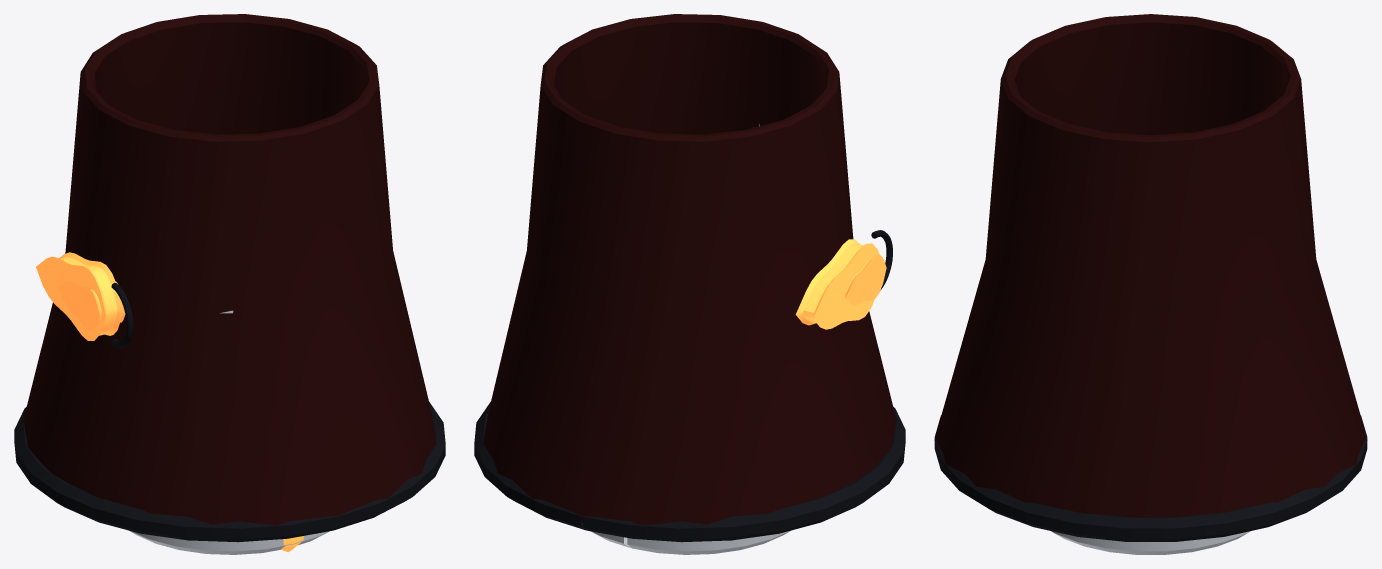
File: esc_ender_of_tomes_gloves_R.glb
3 renders of one model, left to right at view 1: azimuth 30°, elevation 25°; view 2: azimuth 150°, elevation 25°; view 3: azimuth 270°, elevation 25°, orthographic.
Visible parts, largest first — view 1: esc_ender_of_tomes_gloves; view 2: esc_ender_of_tomes_gloves; view 3: esc_ender_of_tomes_gloves.
Boxes of the visible parts, <box> form: esc_ender_of_tomes_gloves: <box>14,14,445,554</box>; esc_ender_of_tomes_gloves: <box>474,14,905,554</box>; esc_ender_of_tomes_gloves: <box>934,14,1367,554</box>.
Size of the model in its own units: 0.221 by 0.2464 by 0.2227.
